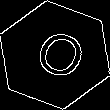O_S: (23, 23, 87, 87)
